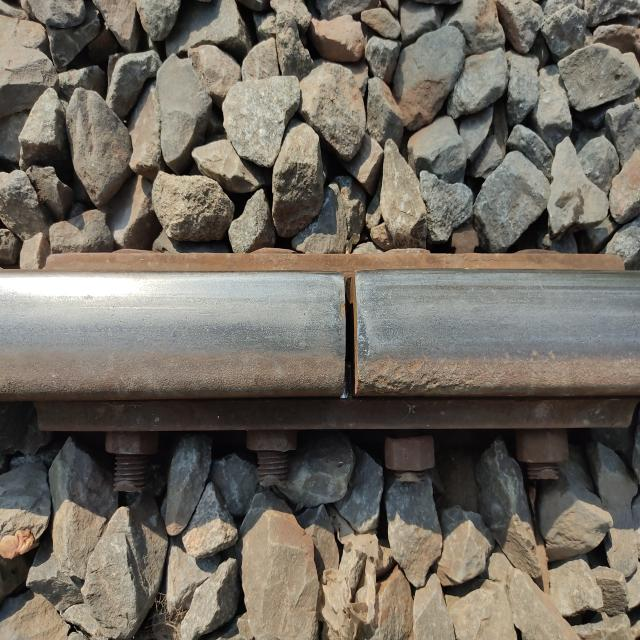Faults: (325, 266, 376, 394)
